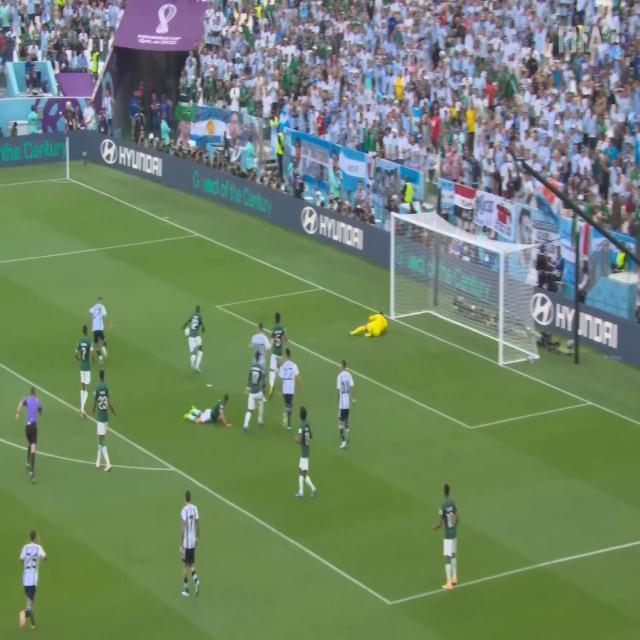player: (436, 481, 466, 594), (17, 527, 47, 637), (178, 490, 207, 603), (95, 366, 118, 474), (180, 390, 236, 430), (335, 358, 358, 453), (296, 403, 316, 499), (75, 319, 94, 420), (244, 345, 266, 431), (88, 292, 112, 367), (184, 304, 209, 376), (267, 309, 287, 396), (280, 350, 298, 435), (351, 310, 391, 343), (247, 322, 270, 365)
